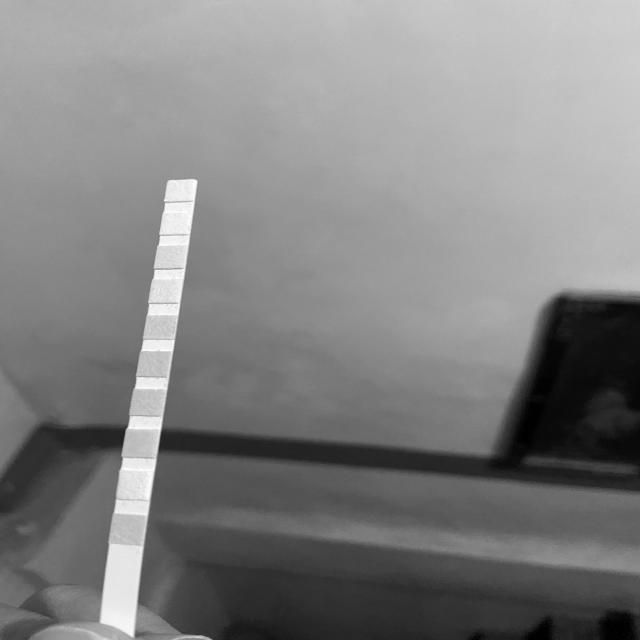Bilirubin: (120, 473, 150, 497)
Blood: (141, 353, 168, 376)
Glucose: (113, 515, 144, 542)
Ketone: (126, 432, 155, 456)
Leukocytes: (168, 181, 192, 200)
Nitrite: (163, 214, 189, 234)
Protein: (151, 282, 181, 302)
SpGravity: (134, 392, 162, 414)
Urobilinogen: (157, 246, 184, 268)
background: (0, 0, 640, 640)
pH: (146, 316, 174, 338)
strip: (100, 180, 198, 622)
